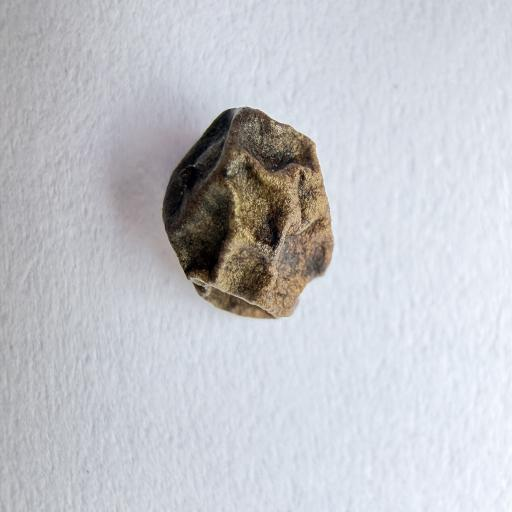Black_pepper: (147, 82, 353, 336)
